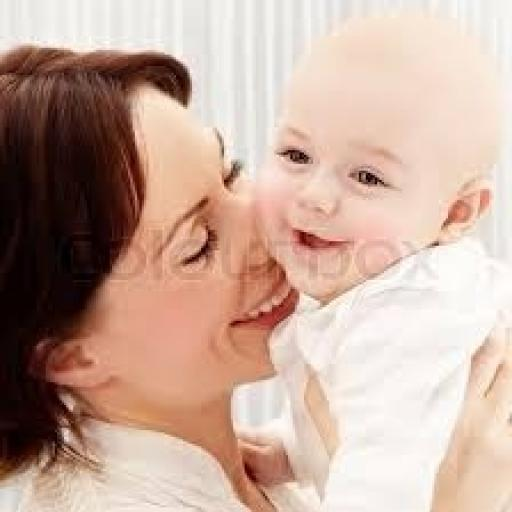laughing: (0, 9, 510, 510)
